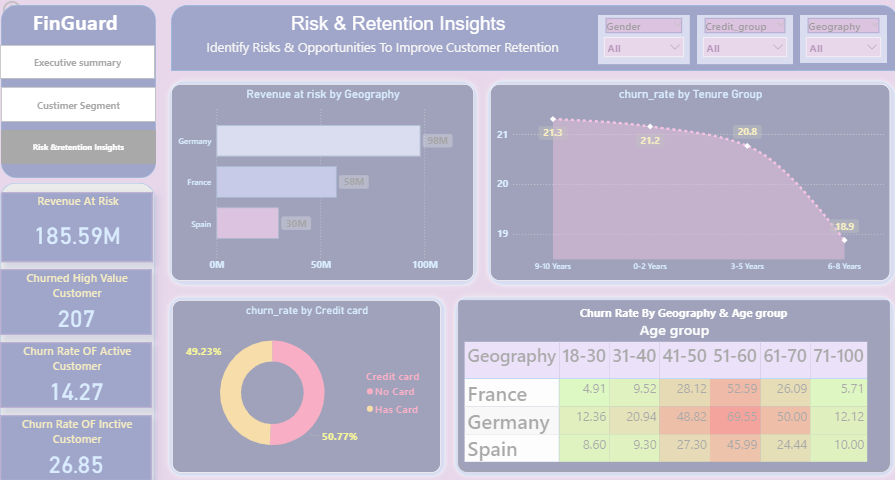

The page's visual inventory and layout, read from the dashboard file:
{"tool":"powerbi","page":{"name":"Risk &retention Insights","canvas":[1500,820],"ordinal":2},"visuals":[{"type":"shape","box":[285,11.7,1211.7,110],"z":0},{"type":"shape","box":[273.3,130,530,356.7],"z":1000},{"type":"shape","box":[273.3,490,476.7,315],"z":2000},{"type":"shape","box":[0,308.3,258.3,511.7],"z":3000},{"type":"card","title":" Churn Rate OF Active Customer","fields":{"Values":["Bank churn clean.Active Customer Churn Rate"]},"box":[0,573.3,253.3,110],"z":4000},{"type":"card","title":"Churn Rate OF Inctive Customer","fields":{"Values":["Bank churn clean.Inactive Customer Churn Rate"]},"box":[0,695,253.3,110],"z":5000},{"type":"card","title":"Churned High Value Customer","fields":{"Values":["Bank churn clean.count of churned high value customer"]},"box":[0,451.7,253.3,110],"z":6000},{"type":"card","title":"Revenue At  Risk","fields":{"Values":["Bank churn clean.Revenue at risk"]},"box":[1.7,323.3,253.3,116.7],"z":7000},{"type":"barChart","fields":{"Category":["Bank churn clean.Geography"],"Y":["Bank churn clean.Revenue at risk"]},"box":[285,143.3,505,328.3],"z":8000},{"type":"donutChart","title":"churn_rate by Credit card","fields":{"Y":["Bank churn clean.churn_rate"],"Category":["Bank churn clean.Credit card"]},"box":[286.7,503.3,448.3,288.3],"z":9000},{"type":"shape","box":[750,490,748.3,315],"z":10000},{"type":"pivotTable","title":"Age group","fields":{"Rows":["Bank churn clean.Geography"],"Values":["Bank churn clean.churn_rate"],"Columns":["Bank churn clean.Age_group"]},"box":[763.3,530,720,260],"z":11000},{"type":"shape","box":[805,130,695,356.7],"z":12000},{"type":"actionButton","box":[0,0,100,40],"z":13000},{"type":"areaChart","fields":{"Category":["Bank churn clean.Tenure Group"],"Y":["Bank churn clean.churn_rate"]},"box":[816.7,143.3,666.7,328.3],"z":14000},{"type":"textbox","box":[480,20,411.7,68.3],"z":15000},{"type":"textbox","box":[333.3,61.7,625,60],"z":16000},{"type":"slicer","fields":{"Values":["Bank churn clean.Geography"]},"box":[1333.3,28.3,145,80],"z":17000},{"type":"slicer","fields":{"Values":["Bank churn clean.Gender"]},"box":[996.7,28.3,153.3,81.7],"z":18000},{"type":"slicer","fields":{"Values":["Bank churn clean.Credit_group"]},"box":[1161.7,28.3,160,81.7],"z":19000},{"type":"shape","box":[1.7,11.7,258.3,288.3],"z":20000},{"type":"pageNavigator","box":[0,78.3,258.3,56.7],"z":21000},{"type":"pageNavigator","box":[1.7,148.3,258.3,58.3],"z":22000},{"type":"pageNavigator","box":[1.7,220,258.3,56.7],"z":23000},{"type":"textbox","box":[50,11.7,186.7,58.3],"z":24000},{"type":"textbox","box":[763.3,503.3,720,43.3],"z":29000}]}

Visuals, with their boxes in screenshot pixels (x1, y1, x2, y2), scaled from the page's 1500x820 canvas onto the 895x480 screenshot:
shape: left=170, top=7, right=893, bottom=71
shape: left=163, top=76, right=479, bottom=285
shape: left=163, top=287, right=448, bottom=471
shape: left=0, top=180, right=154, bottom=479
" Churn Rate OF Active Customer" card: left=0, top=336, right=151, bottom=400
"Churn Rate OF Inctive Customer" card: left=0, top=407, right=151, bottom=471
"Churned High Value Customer" card: left=0, top=264, right=151, bottom=329
"Revenue At  Risk" card: left=1, top=189, right=152, bottom=258
barChart - Bank churn clean.Geography x Bank churn clean.Revenue at risk: left=170, top=84, right=471, bottom=276
"churn_rate by Credit card" donutChart: left=171, top=295, right=439, bottom=463
shape: left=448, top=287, right=894, bottom=471
"Age group" pivotTable: left=455, top=310, right=885, bottom=462
shape: left=480, top=76, right=894, bottom=285
actionButton: left=0, top=0, right=60, bottom=23
areaChart - Bank churn clean.Tenure Group x Bank churn clean.churn_rate: left=487, top=84, right=885, bottom=276
textbox: left=286, top=12, right=532, bottom=52
textbox: left=199, top=36, right=572, bottom=71
slicer - Bank churn clean.Geography: left=796, top=17, right=882, bottom=63
slicer - Bank churn clean.Gender: left=595, top=17, right=686, bottom=64
slicer - Bank churn clean.Credit_group: left=693, top=17, right=789, bottom=64
shape: left=1, top=7, right=155, bottom=176
pageNavigator: left=0, top=46, right=154, bottom=79
pageNavigator: left=1, top=87, right=155, bottom=121
pageNavigator: left=1, top=129, right=155, bottom=162
textbox: left=30, top=7, right=141, bottom=41
textbox: left=455, top=295, right=885, bottom=320
